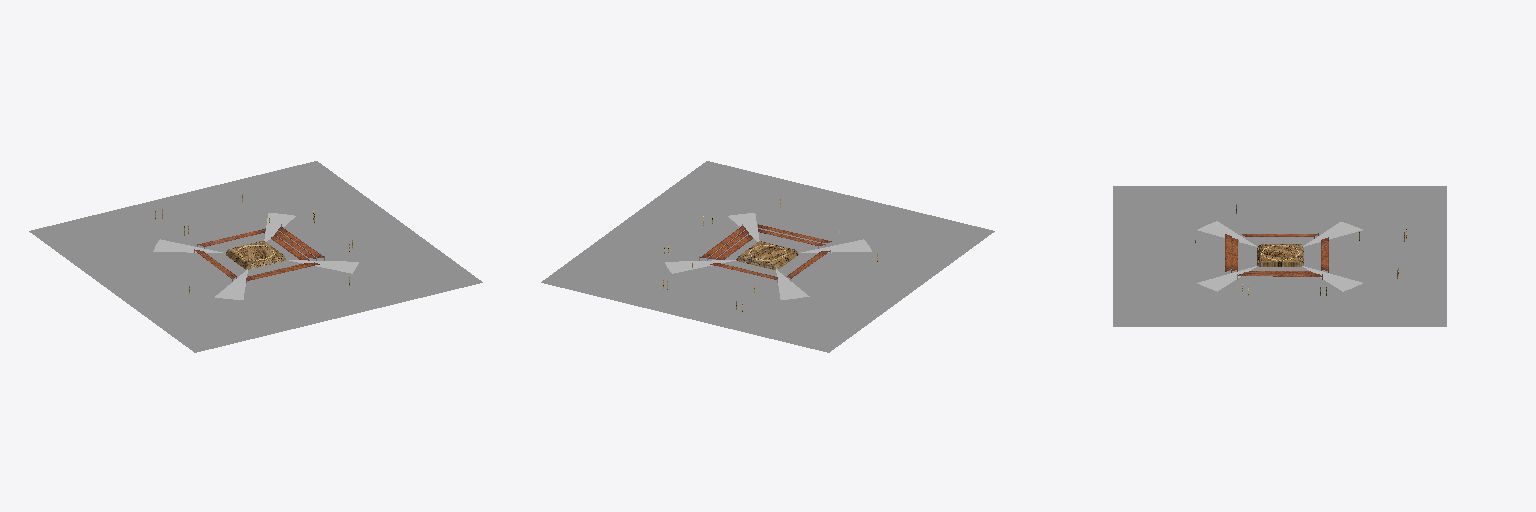
3 renders of one model, left to right at view 1: azimuth 30°, elevation 25°; view 2: azimuth 150°, elevation 25°; view 3: azimuth 270°, elevation 25°, orthographic.
Visible parts, largest first — view 1: floor_Plane, Plane.001; view 2: floor_Plane, Plane.001; view 3: floor_Plane, Plane.001.
Boxes of the visible parts, <box> form: floor_Plane: <box>29,161,482,352</box>; Plane.001: <box>226,241,285,269</box>; floor_Plane: <box>541,161,994,352</box>; Plane.001: <box>736,241,798,269</box>; floor_Plane: <box>1113,186,1446,326</box>; Plane.001: <box>1257,244,1303,266</box>.
Bounding box in the file's own units: 15.96 × 0.918 × 15.96.
Materials: 11 (3 with a texture image).